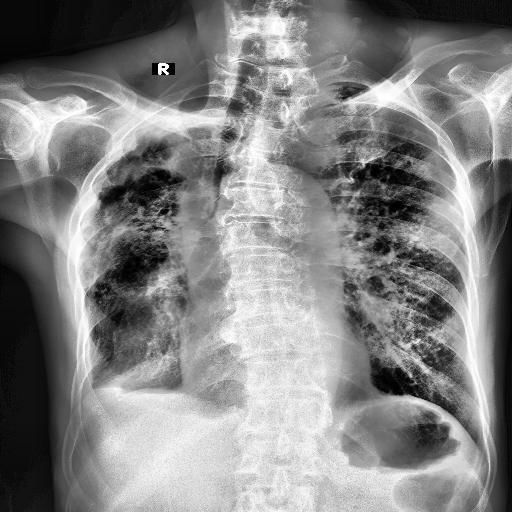0- Aortic enlargement: (230, 162, 342, 262), (250, 166, 340, 252), (258, 166, 340, 258)
1- Atelectasis: (120, 88, 224, 156)
10- Pleural effusion: (66, 373, 106, 412), (80, 372, 104, 408)
11- Pleural thickening: (63, 96, 246, 351), (117, 95, 243, 149), (66, 373, 106, 412), (74, 332, 94, 406), (80, 372, 104, 408)
13- Pulmonary fibrosis: (90, 133, 204, 333), (86, 130, 179, 368), (84, 132, 194, 252), (350, 124, 430, 200), (332, 94, 386, 134)
5- ILD: (350, 142, 448, 384)
7- Lung Opacity: (80, 236, 190, 390), (112, 314, 192, 392)
9- Other lesion: (332, 94, 386, 134)
